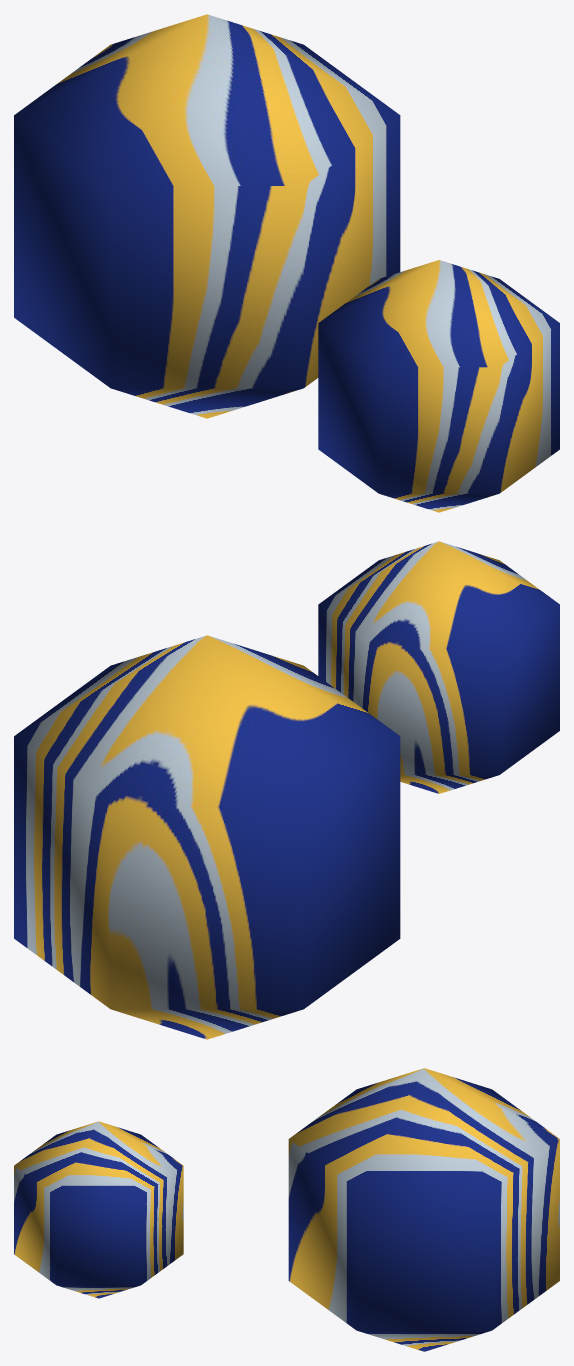
Rendered from dragonflymarble_selection.DAE.
3 views of the same model, one above another, from view 1: azimuth 30°, elevation 25°; view 2: azimuth 150°, elevation 25°; view 3: azimuth 270°, elevation 25° (orthographic). The views are drawn at different scales.
Parts seen in each view (by area): view 1: Shooter_H, Standard_H; view 2: Shooter_H, Standard_H; view 3: Shooter_H, Standard_H.
Boxes of the visible parts, left/top/right/bottom form: Shooter_H: left=14, top=14, right=400, bottom=418; Standard_H: left=318, top=260, right=559, bottom=512; Shooter_H: left=14, top=635, right=400, bottom=1039; Standard_H: left=318, top=541, right=559, bottom=793; Shooter_H: left=288, top=1068, right=559, bottom=1351; Standard_H: left=14, top=1121, right=183, bottom=1298.
Bounding box in the file's own units: 0.0381 × 0.0886 × 0.0508.
Materials: 1 (1 with a texture image).
